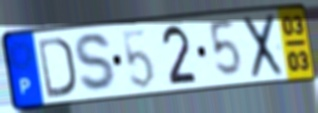2: (160, 23, 199, 87)
5: (205, 18, 244, 80), (120, 26, 157, 90)
D: (36, 35, 77, 100)
S: (73, 31, 121, 95)
X: (242, 11, 285, 81)
